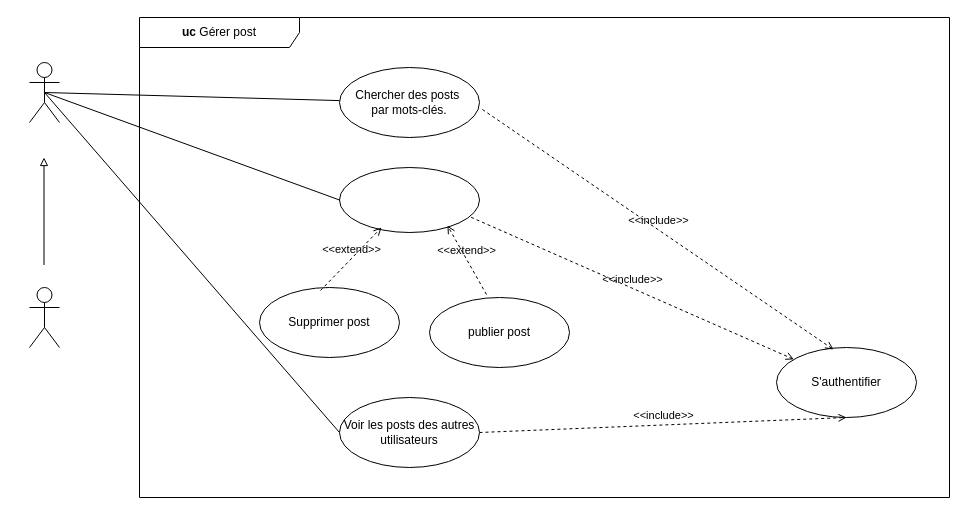
Some shapes in this 967 by 515 pixel diagram are drawn without their labels. The centre of each missing label's shape, as x and y in pixels:
Entreprise: the point at 44,317
Gérer post: the point at 409,199
Utilisateur: the point at 44,92
